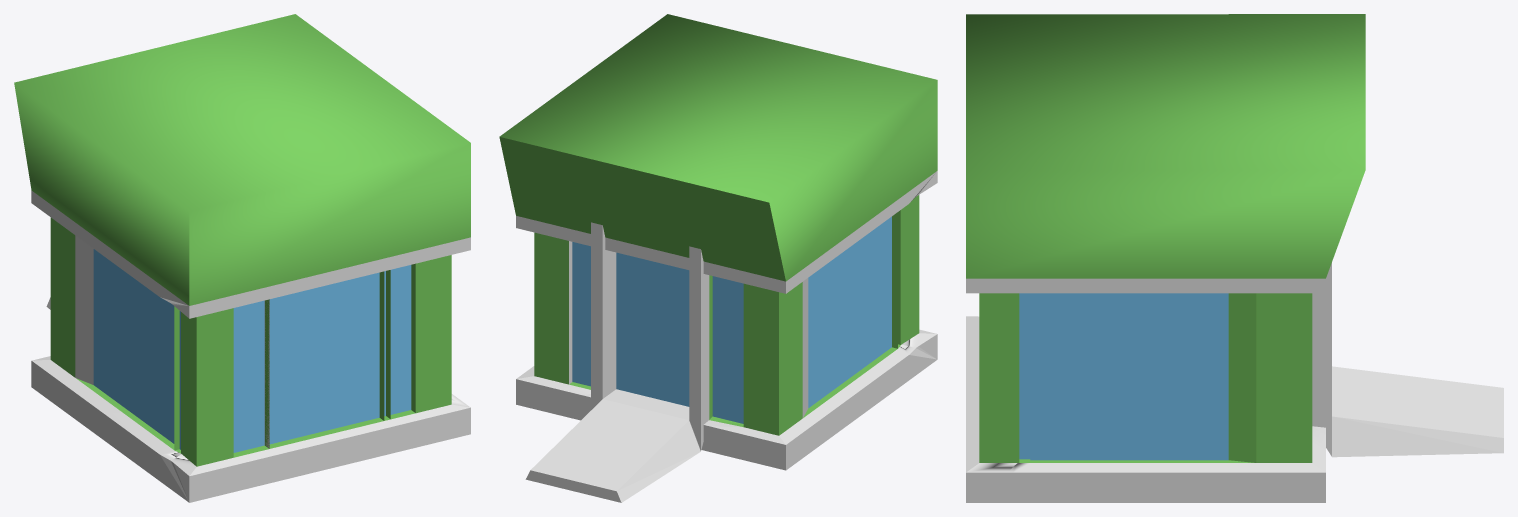
Rendered from Shop2x2x2Green.fbx.
The picture shows the model from 3 angles, left to right: view 1: azimuth 30°, elevation 25°; view 2: azimuth 150°, elevation 25°; view 3: azimuth 270°, elevation 25°; orthographic projection. The views are drawn at different scales.
Parts seen in each view (by area): view 1: Shop.002; view 2: Shop.002; view 3: Shop.002.
Part boxes in pixels (x1,y1,x2,y2): Shop.002: [14, 14, 470, 502]; Shop.002: [499, 14, 937, 502]; Shop.002: [966, 14, 1503, 502].
Bounding box in the file's own units: 2 × 1.98 × 2.91.
Materials: 1 (1 with a texture image).
